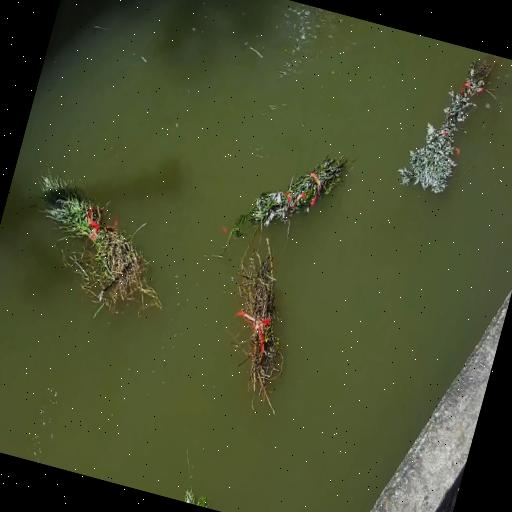twig: (37, 169, 162, 318), (398, 54, 497, 193), (228, 156, 347, 244), (237, 231, 284, 414), (184, 488, 209, 507)
